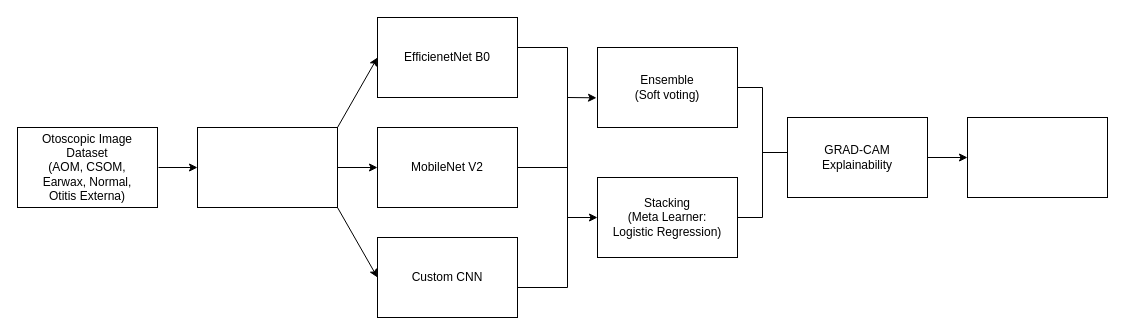
Some shapes in this 1125 by 335 pixel diagram are drawn without their labels. Each missing label, with the centre of its shape:
Output Prediction + PDF Report: pixel 1037 157
Preprocessing Resize, Normalize, Augment (Rotate/ Flip): pixel 267 167
